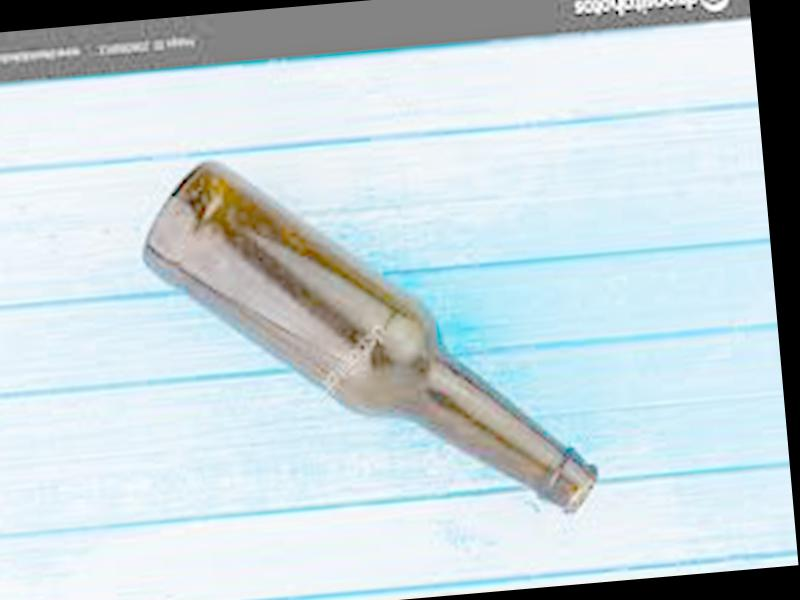Beer: (133, 123, 598, 550)
